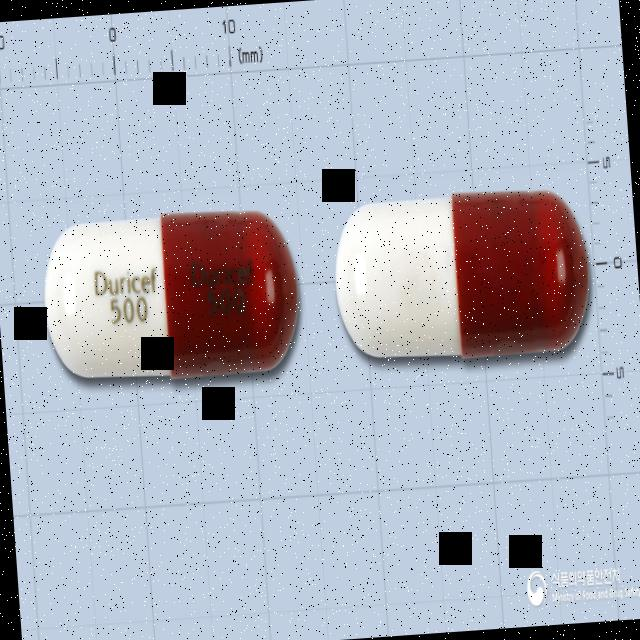Duricef Cap: (38, 203, 304, 389)
